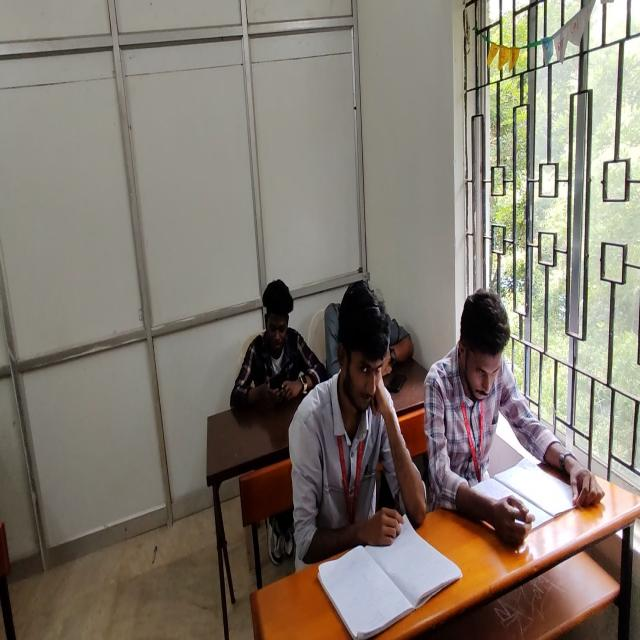listening: (286, 278, 418, 573)
reading: (433, 286, 608, 540)
sleeping: (324, 299, 411, 382)
using_mobile: (230, 279, 328, 414)
